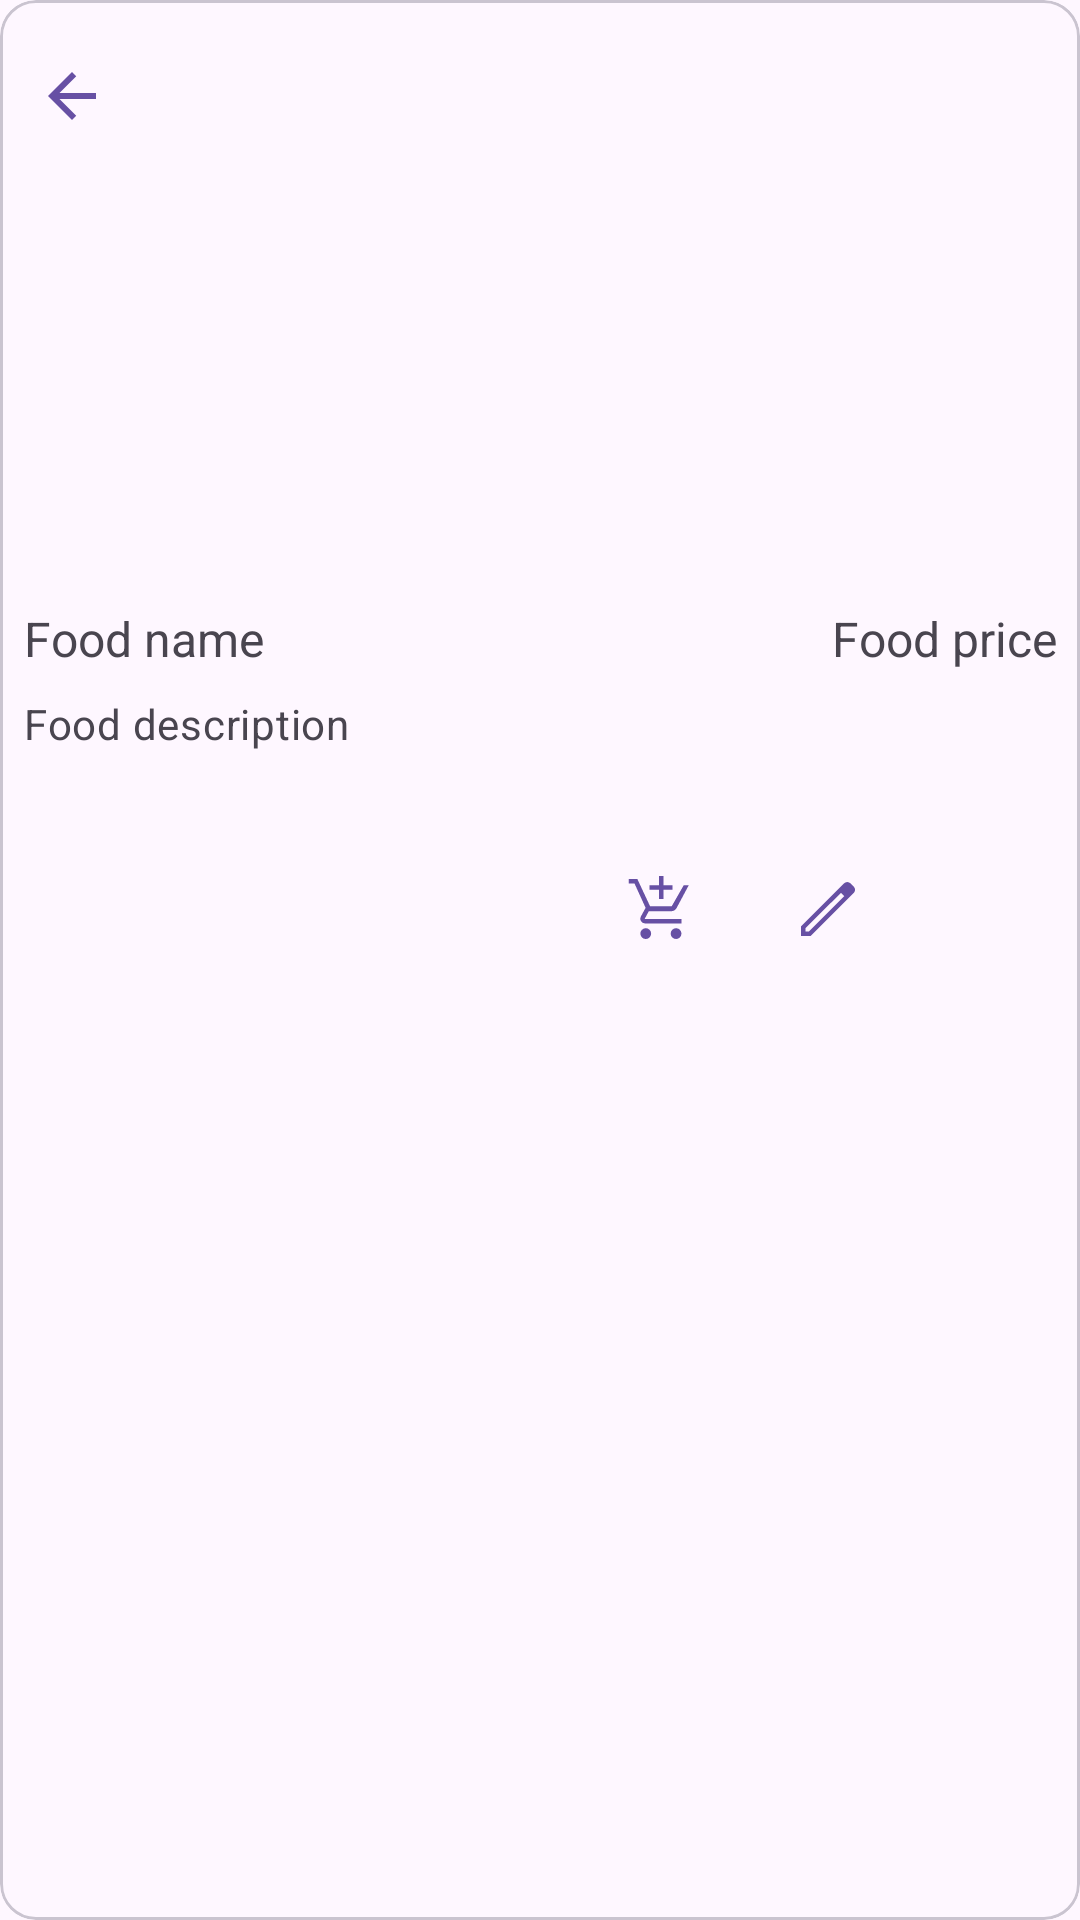

Icons on this 1080 × 1920 Android screen, each with its box as (x1, y1, x2, y2):
add shopping cart: (628, 876, 689, 939)
back: (48, 72, 96, 120)
edit: (801, 882, 855, 936)
